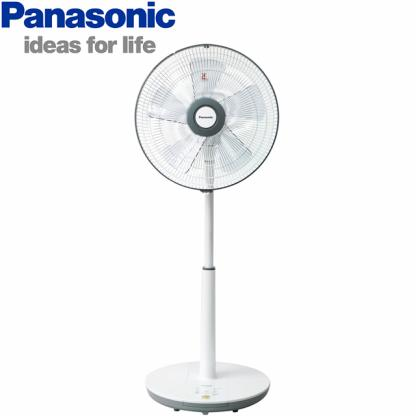fan: (132, 41, 281, 414)
